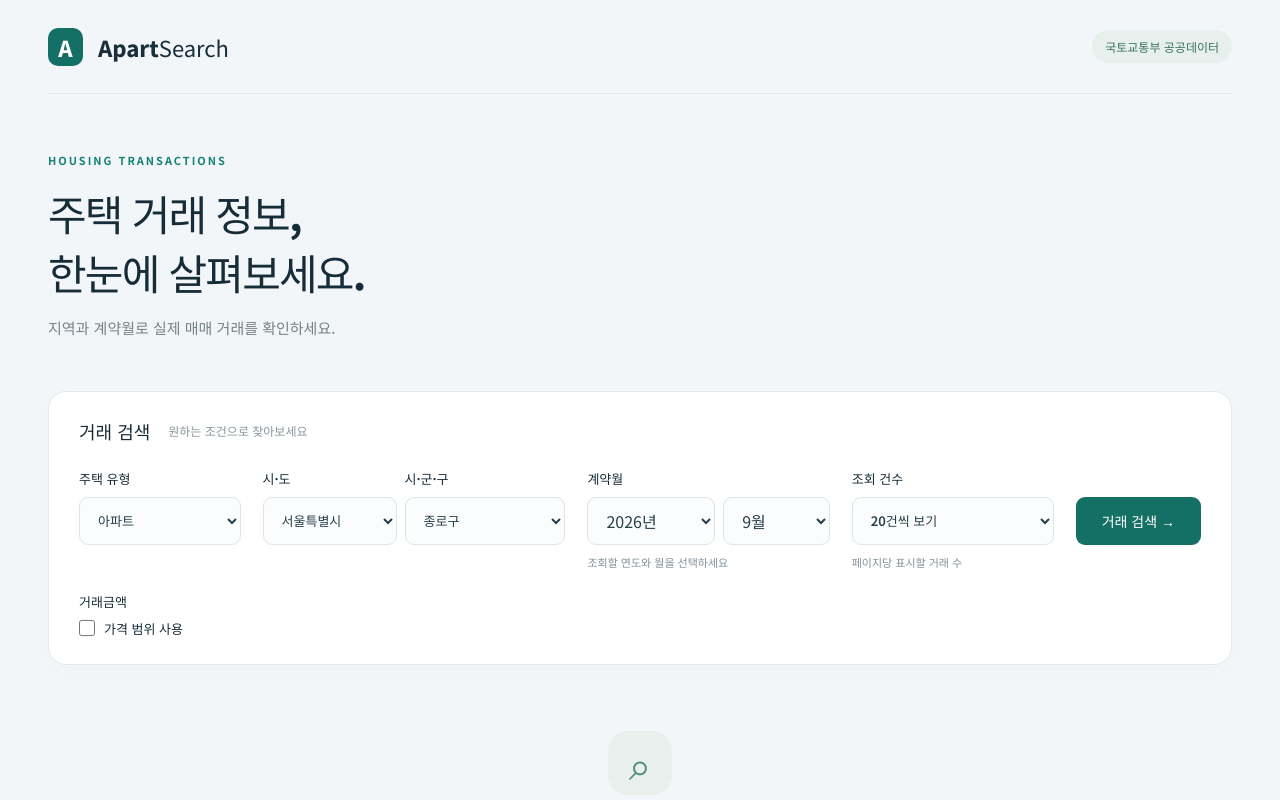
Test: combines selected year and zero-padded month for searches and pagination
Select "2026년" in the dropdown named "계약 연도" at (651, 521), box [587,497,715,545]
Select "9월" in the dropdown named "계약 월" at (776, 521), box [723,497,830,545]
Click the button "거래 검색 →" at (1138, 521), box [1076,497,1201,545]
(page scrolled)
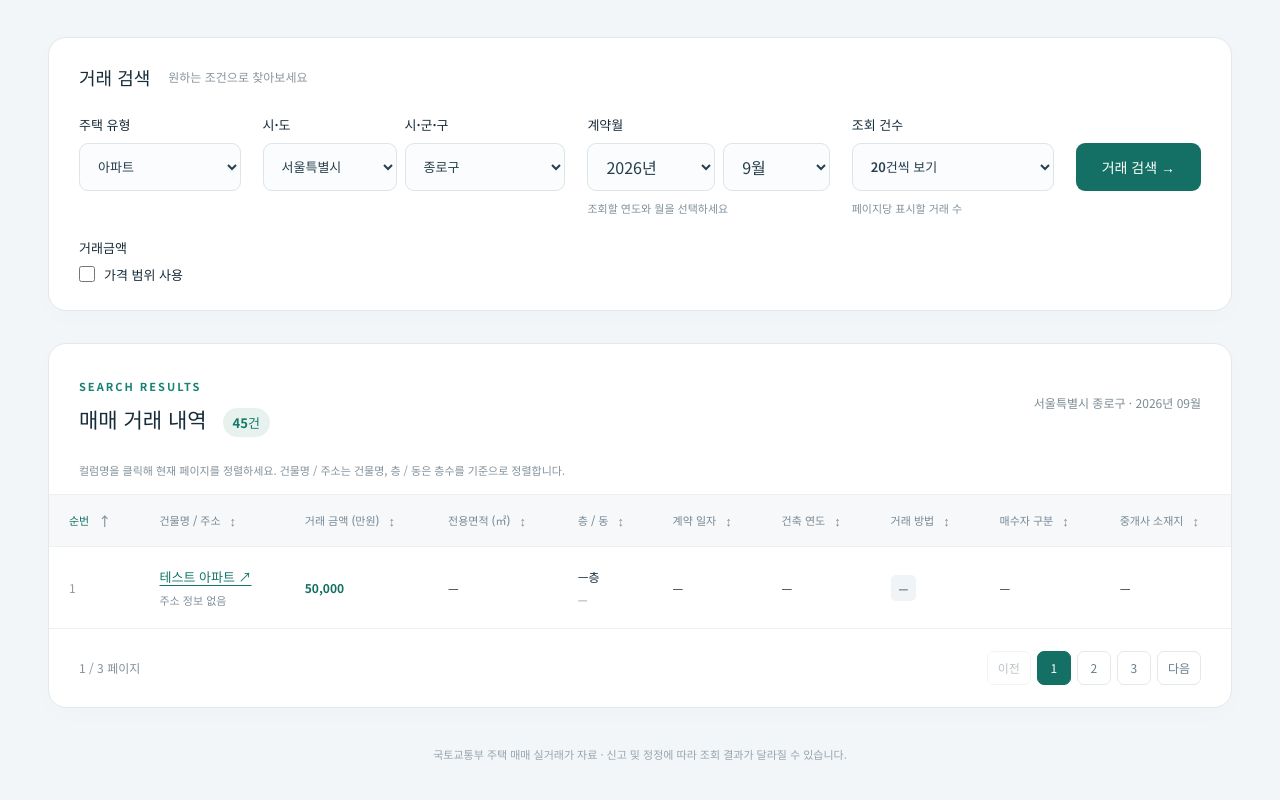
Expected: the link "테스트 아파트 ↗" is shown, [160,567,252,586]
Click the button "다음" at (1179, 668), box [1157,651,1201,685]
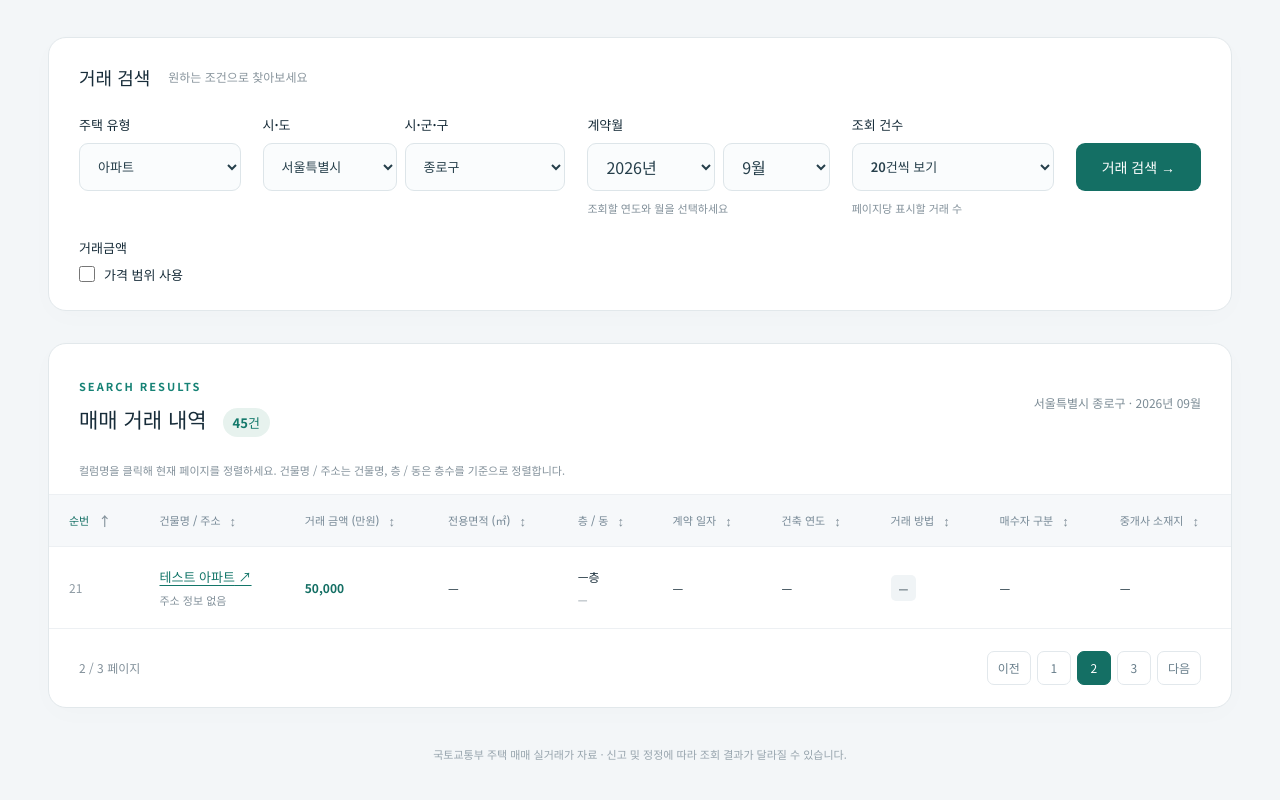
Expected: the text "2 / 3 페이지" is shown, [79,659,140,676]
